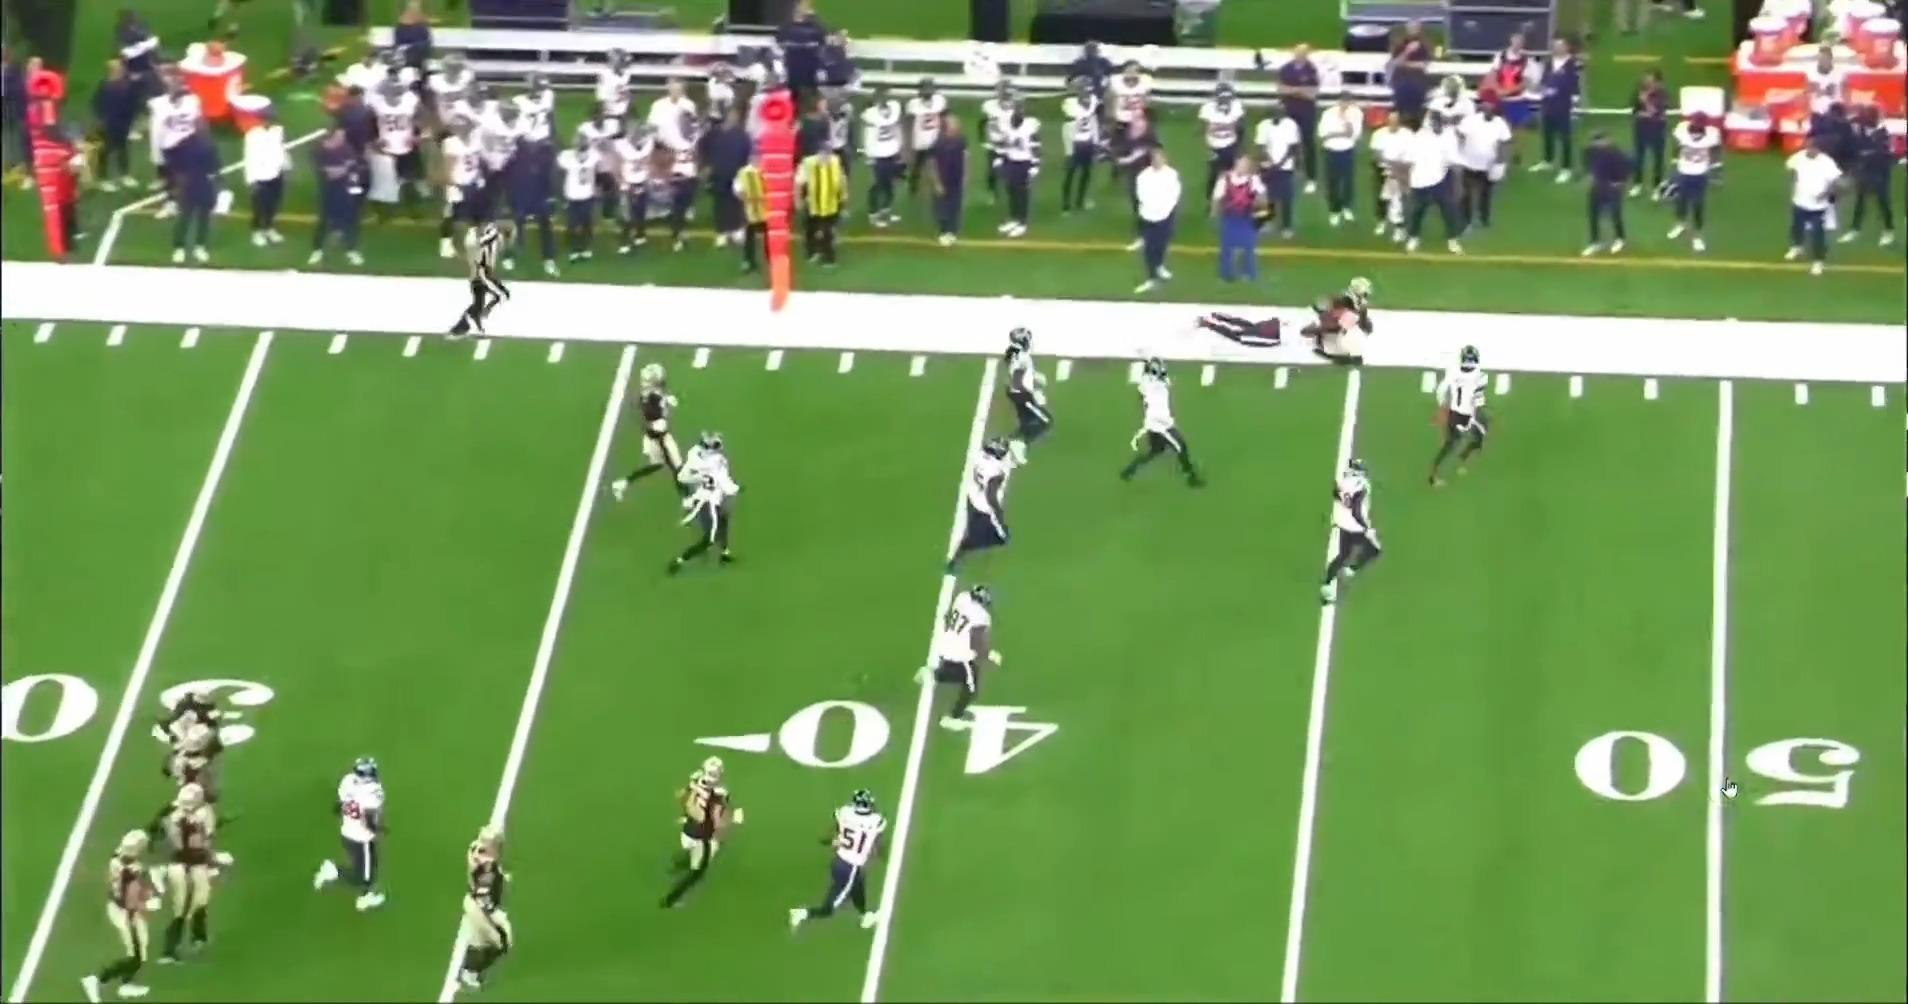defense: (780, 789, 892, 942), (927, 576, 1014, 734), (1119, 361, 1215, 504), (318, 751, 389, 921), (676, 432, 753, 587), (1415, 342, 1494, 493), (940, 433, 1020, 577), (1309, 451, 1381, 604), (996, 322, 1062, 468)
oline: (430, 823, 513, 1004), (163, 786, 240, 977), (153, 696, 226, 788)
ref: (445, 210, 527, 340)
skill: (79, 820, 177, 1004), (658, 755, 744, 919), (612, 360, 698, 508), (1313, 269, 1375, 375)
